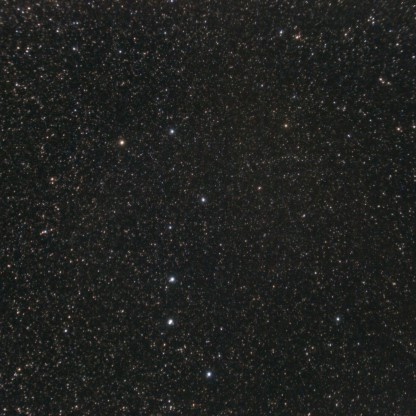Ursa Major: (163, 123, 185, 153), (198, 364, 221, 389), (157, 309, 180, 332), (161, 216, 182, 239), (193, 188, 212, 210), (162, 269, 181, 289), (111, 136, 129, 153)
